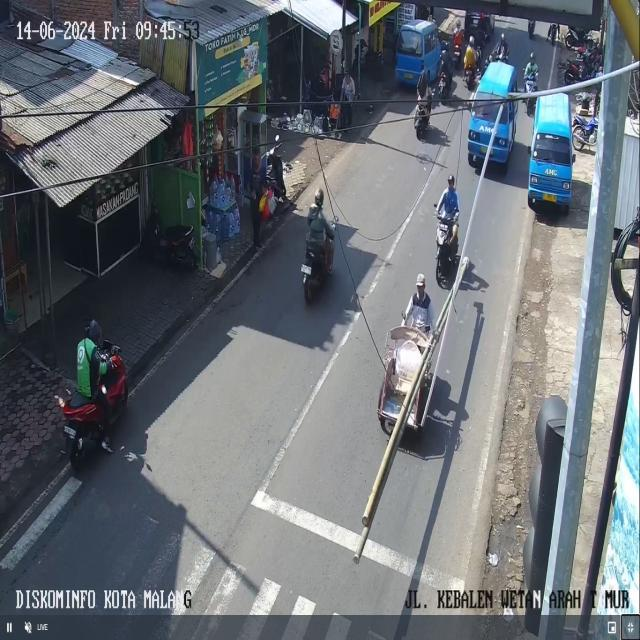Helmet: (86, 319, 102, 345), (314, 188, 323, 206), (416, 273, 425, 286), (447, 175, 454, 185), (455, 19, 461, 28), (440, 50, 445, 59), (469, 36, 474, 44), (501, 33, 505, 41), (530, 52, 534, 60)
Number Plate: (64, 425, 76, 437), (543, 193, 556, 202), (301, 264, 311, 274), (404, 73, 413, 79)
Rearview Mirror: (275, 134, 279, 143), (572, 153, 575, 162), (527, 146, 530, 154)
